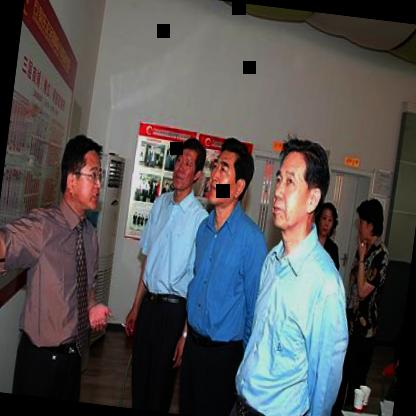head: (270, 137, 326, 234), (54, 130, 109, 218), (206, 135, 256, 210), (167, 134, 207, 194), (352, 195, 387, 252), (310, 198, 340, 245)
